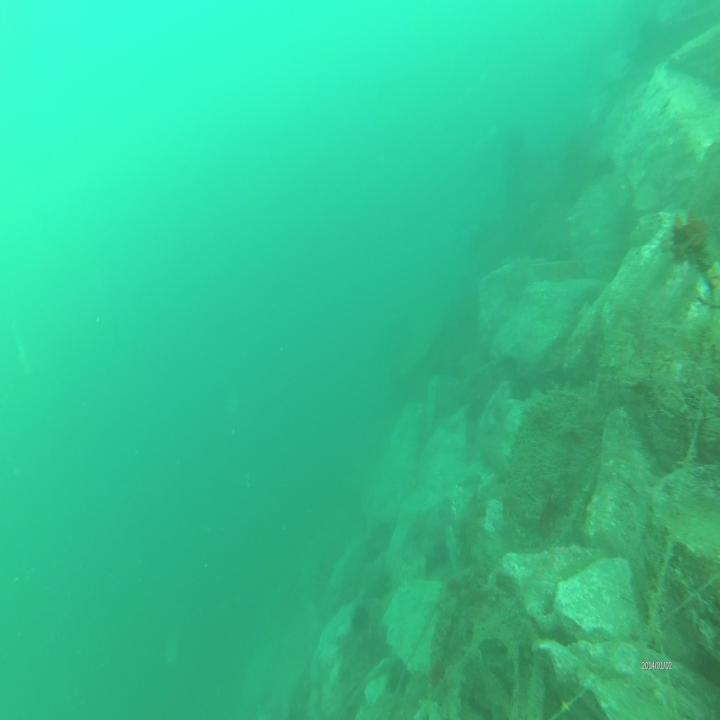echinus: (363, 558, 391, 602), (594, 149, 618, 188), (350, 600, 369, 630)
